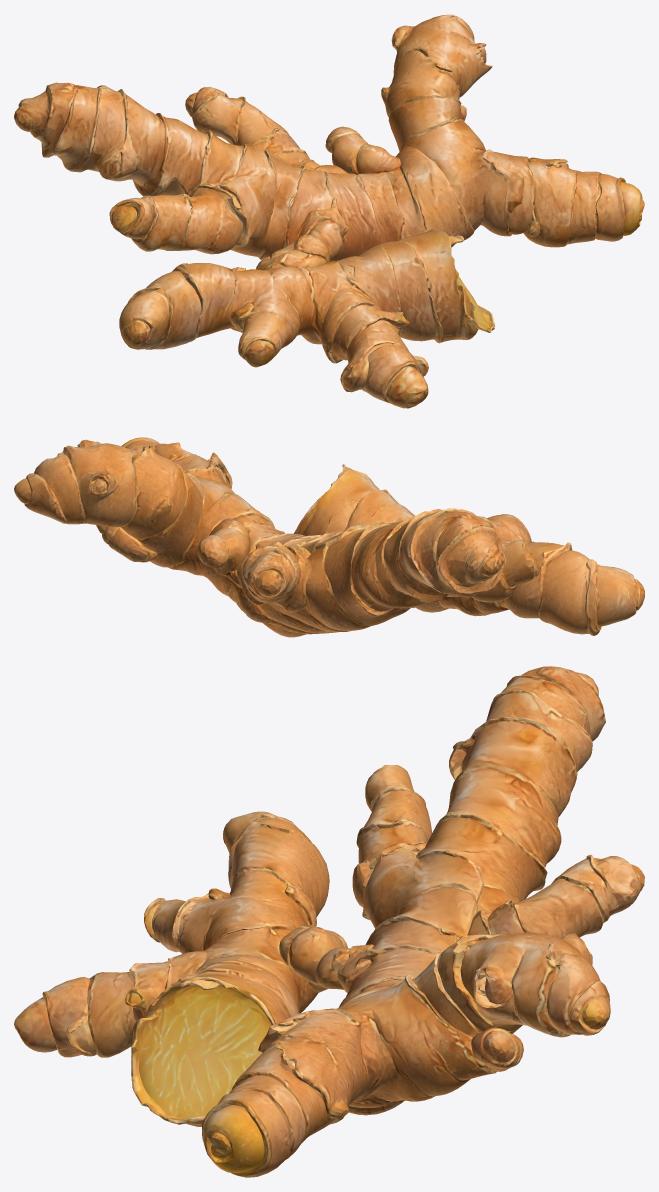
Rendered from lod_basic_pbr.fbx.
3 renders of one model, top to bottom at view 1: azimuth 30°, elevation 25°; view 2: azimuth 150°, elevation 25°; view 3: azimuth 270°, elevation 25°, orthographic. The views are drawn at different scales.
Parts seen in each view (by area): view 1: model_LOD0; view 2: model_LOD0; view 3: model_LOD0.
Part boxes in pixels (x1,y1,x2,y2): model_LOD0: [14, 14, 644, 408]; model_LOD0: [14, 437, 644, 637]; model_LOD0: [14, 666, 644, 1177].
Size of what is drawn, in the model's own units: 190 by 78.56 by 153.
Materials: 1 (1 with a texture image).
